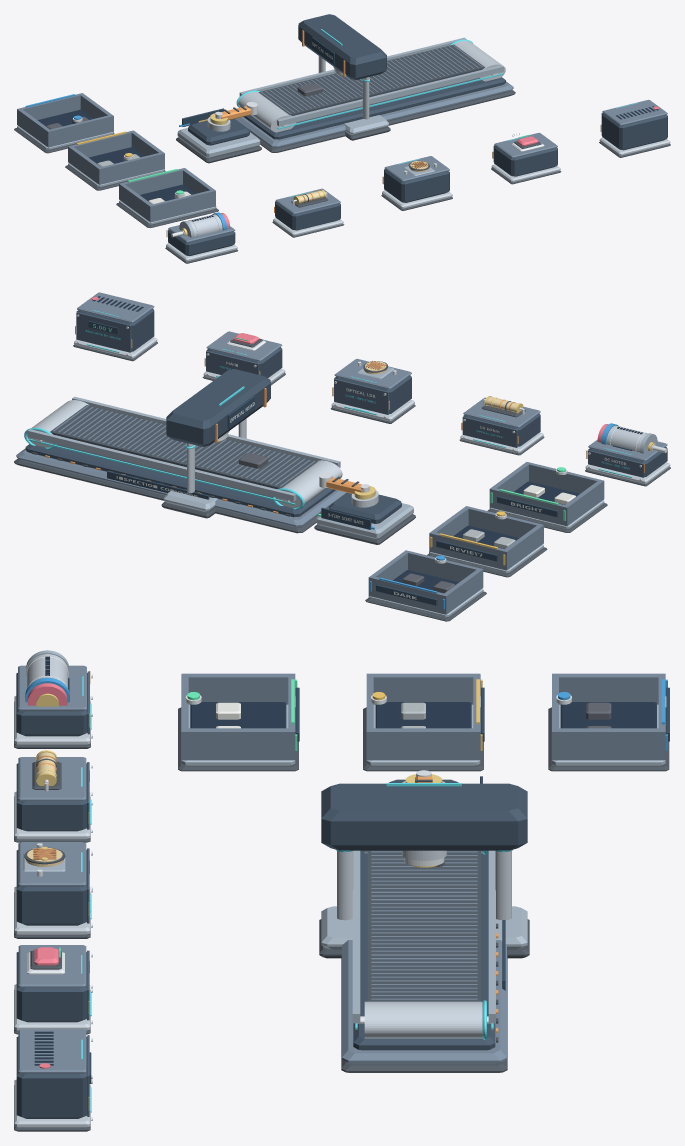
Rendered from Level32_Fitted_Assembly.fbx.
The picture shows the model from 3 angles, top to bottom: view 1: azimuth 30°, elevation 25°; view 2: azimuth 150°, elevation 25°; view 3: azimuth 270°, elevation 25°; orthographic projection. The views are drawn at different scales.
Visible parts, largest first — view 1: L32_Conveyor_Static__belt, L32_Head_Static__graphite, L32_Review_Static__mid_steel, L32_Dark_Static__mid_steel, L32_Bright_Static__mid_steel, L32_Conveyor_Static__graphite, L32_Conveyor_Static__steel, L32_Conveyor_Static__mid_steel, L32_Supply_Static__graphite, L32_Conveyor_Static__titanium, L32_Conveyor_Static__rubber, L32_Sensor_Static__graphite (+22 smaller); view 2: L32_Conveyor_Static__belt, L32_Head_Static__graphite, L32_Bright_Static__mid_steel, L32_Dark_Static__mid_steel, L32_Review_Static__mid_steel, L32_Conveyor_Static__steel, L32_Conveyor_Static__graphite, L32_Conveyor_Static__mid_steel, L32_Conveyor_Static__rubber, L32_Conveyor_Static__titanium, L32_Supply_Static__deep_steel, L32_Sensor_Static__deep_steel (+25 smaller); view 3: L32_Head_Static__graphite, L32_Conveyor_Static__belt, L32_Bright_Static__mid_steel, L32_Review_Static__mid_steel, L32_Dark_Static__mid_steel, L32_Conveyor_Static__graphite, L32_Conveyor_Static__mid_steel, L32_Conveyor_Static__titanium, L32_Supply_Static__graphite, L32_Sensor_Static__graphite, L32_Conveyor_Static__steel, L32_Supply_Static__mid_steel (+25 smaller).
Part boxes in pixels (x1=…): L32_Conveyor_Static__belt: x1=258, y1=44, x2=484, y2=115; L32_Head_Static__graphite: x1=298, y1=14, x2=386, y2=79; L32_Review_Static__mid_steel: x1=68, y1=130, x2=164, y2=184; L32_Dark_Static__mid_steel: x1=17, y1=93, x2=113, y2=147; L32_Bright_Static__mid_steel: x1=119, y1=168, x2=215, y2=222; L32_Conveyor_Static__graphite: x1=243, y1=77, x2=505, y2=139; L32_Conveyor_Static__steel: x1=239, y1=37, x2=503, y2=126; L32_Conveyor_Static__mid_steel: x1=235, y1=81, x2=513, y2=147; L32_Supply_Static__graphite: x1=602, y1=113, x2=667, y2=150; L32_Conveyor_Static__titanium: x1=238, y1=40, x2=505, y2=132; L32_Conveyor_Static__rubber: x1=250, y1=77, x2=515, y2=152; L32_Sensor_Static__graphite: x1=384, y1=170, x2=449, y2=202; L32_Conveyor_Static__belt: x1=50, y1=405, x2=317, y2=488; L32_Head_Static__graphite: x1=166, y1=369, x2=270, y2=446; L32_Bright_Static__mid_steel: x1=489, y1=462, x2=604, y2=526; L32_Dark_Static__mid_steel: x1=368, y1=550, x2=483, y2=614; L32_Review_Static__mid_steel: x1=429, y1=506, x2=543, y2=570; L32_Conveyor_Static__steel: x1=27, y1=396, x2=340, y2=501; L32_Conveyor_Static__graphite: x1=25, y1=444, x2=335, y2=517; L32_Conveyor_Static__mid_steel: x1=16, y1=448, x2=346, y2=526; L32_Conveyor_Static__rubber: x1=14, y1=444, x2=328, y2=533; L32_Conveyor_Static__titanium: x1=27, y1=400, x2=342, y2=507; L32_Supply_Static__deep_steel: x1=76, y1=312, x2=131, y2=352; L32_Sensor_Static__deep_steel: x1=334, y1=379, x2=388, y2=414; L32_Head_Static__graphite: x1=321, y1=783, x2=527, y2=850; L32_Conveyor_Static__belt: x1=367, y1=850, x2=480, y2=1001; L32_Bright_Static__mid_steel: x1=181, y1=673, x2=295, y2=760; L32_Review_Static__mid_steel: x1=366, y1=673, x2=480, y2=760; L32_Dark_Static__mid_steel: x1=552, y1=673, x2=665, y2=760; L32_Conveyor_Static__graphite: x1=353, y1=850, x2=495, y2=1050; L32_Conveyor_Static__mid_steel: x1=342, y1=940, x2=506, y2=1063; L32_Conveyor_Static__titanium: x1=364, y1=850, x2=482, y2=1038; L32_Supply_Static__graphite: x1=16, y1=1036, x2=87, y2=1118; L32_Sensor_Static__graphite: x1=16, y1=850, x2=86, y2=925; L32_Conveyor_Static__steel: x1=352, y1=850, x2=495, y2=1023; L32_Supply_Static__mid_steel: x1=18, y1=1029, x2=92, y2=1119.
Bounding box in the file's own units: 176 × 28 × 112.
